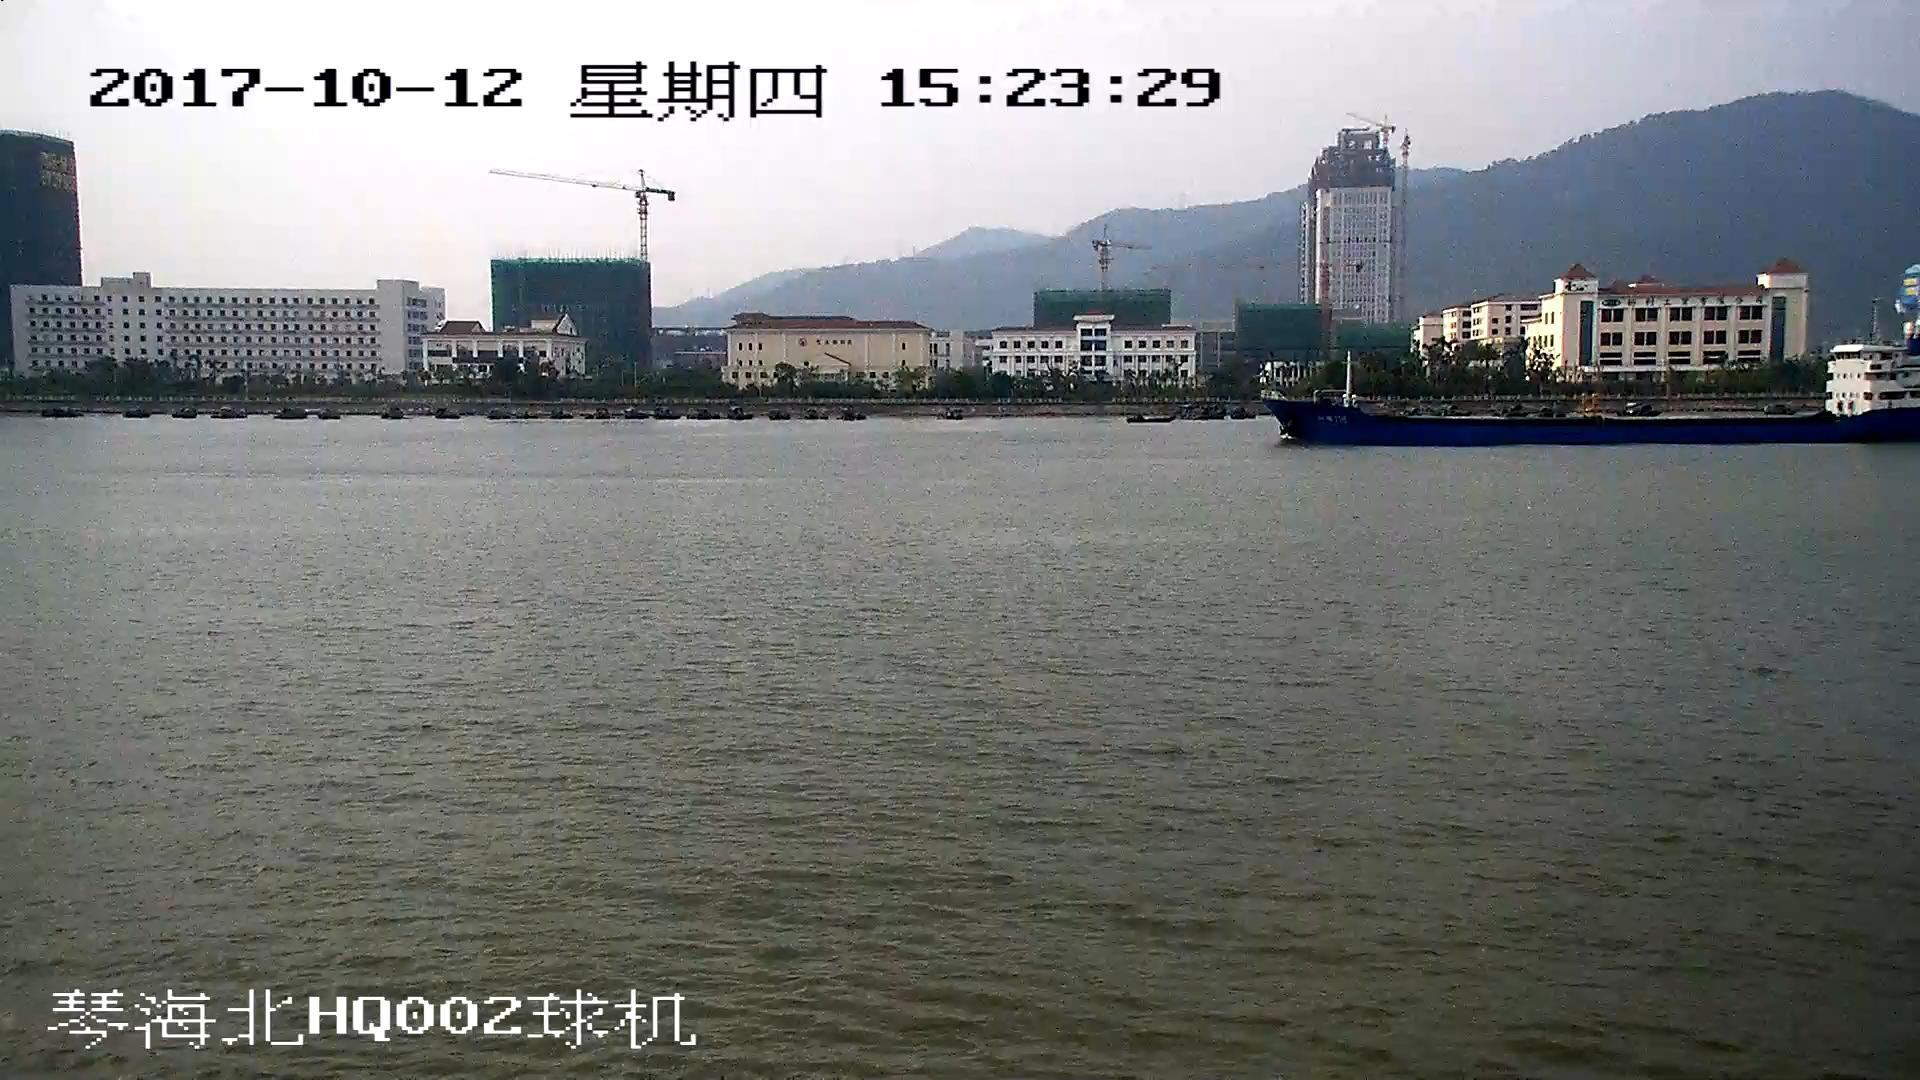Ship: (1269, 349, 1920, 447)
